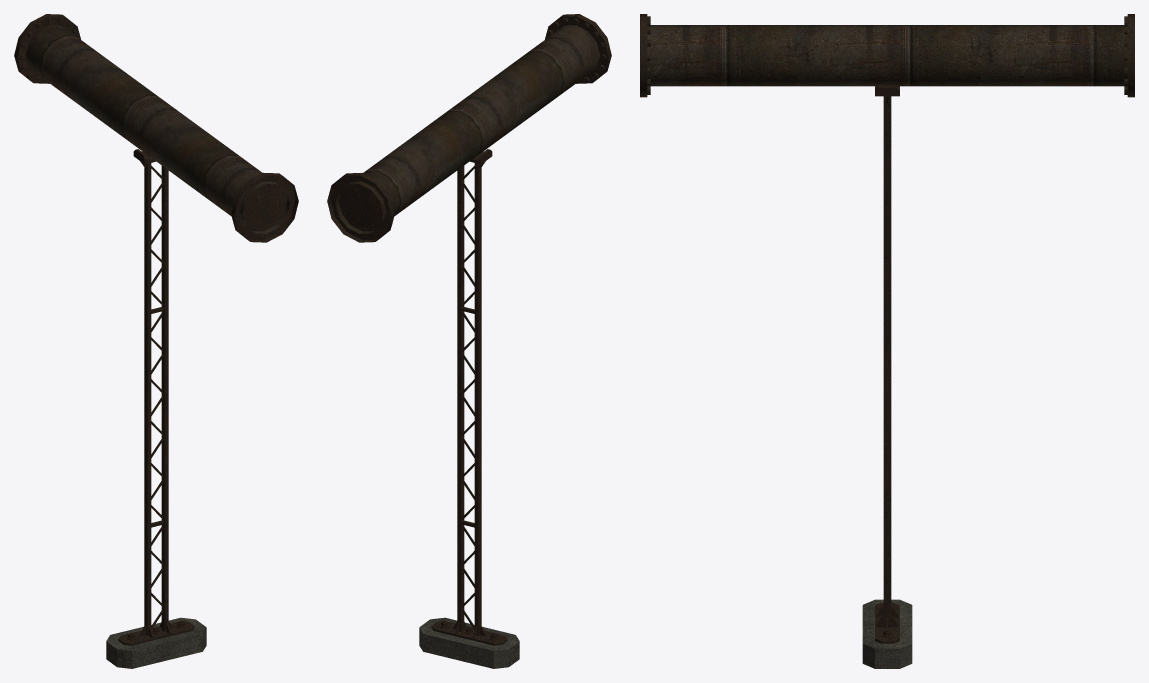
The model's file is pipe_dx_1.glb.
3 renders of one model, left to right at view 1: azimuth 30°, elevation 25°; view 2: azimuth 150°, elevation 25°; view 3: azimuth 270°, elevation 25°, orthographic. The views are drawn at different scales.
Parts seen in each view (by area): view 1: pipe_dx_1; view 2: pipe_dx_1; view 3: pipe_dx_1.
Boxes of the visible parts, left/top/right/bottom form: pipe_dx_1: left=14, top=14, right=298, bottom=668; pipe_dx_1: left=327, top=14, right=611, bottom=668; pipe_dx_1: left=640, top=14, right=1134, bottom=668.
Size of the model in its own units: 0.94 by 5.59 by 4.
Materials: 3 (3 with a texture image).
